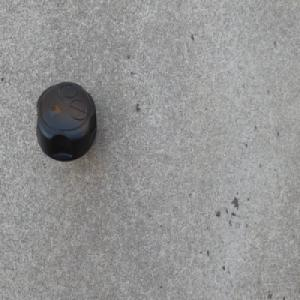FuelCap: (34, 80, 98, 163)
